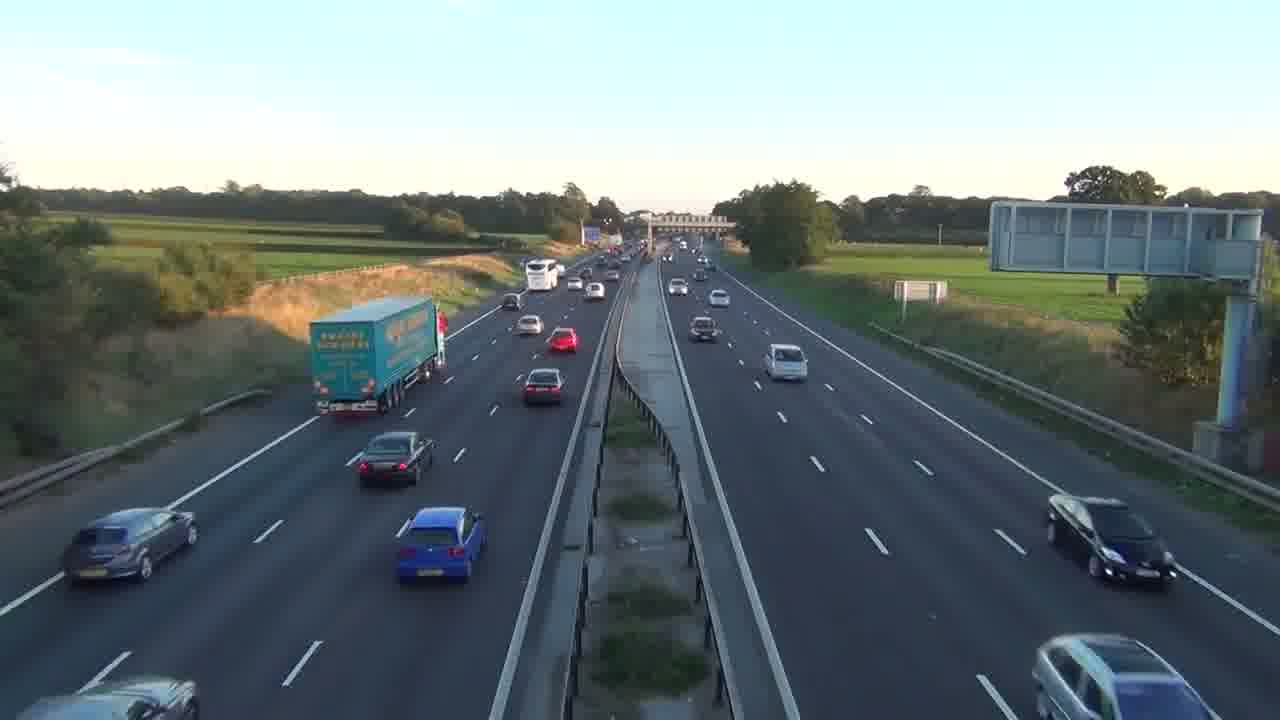car: (1031, 631, 1223, 719), (60, 506, 199, 585), (18, 675, 201, 719), (393, 505, 486, 585), (347, 429, 437, 487), (764, 343, 808, 382), (521, 367, 565, 405), (688, 314, 720, 343), (546, 327, 579, 354), (515, 314, 543, 336), (669, 278, 689, 296)
truck: (307, 295, 437, 416), (1045, 493, 1177, 588), (523, 258, 565, 293)
